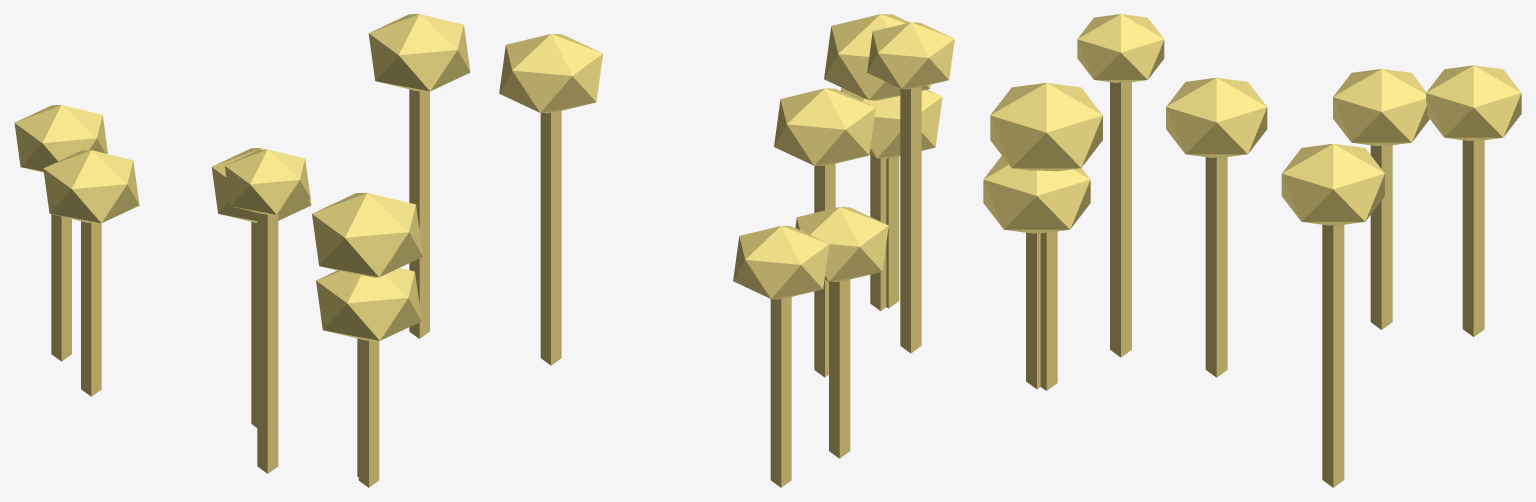
The model's file is flower_yellow.glb.
3 views of the same model, side by side, from view 1: azimuth 30°, elevation 25°; view 2: azimuth 150°, elevation 25°; view 3: azimuth 270°, elevation 25° (orthographic). The views are drawn at different scales.
Parts seen in each view (by area): view 1: flower_yellow; view 2: flower_yellow; view 3: flower_yellow.
Boxes of the visible parts, x1,y1,x2,y2 form: flower_yellow: [14, 14, 470, 487]; flower_yellow: [499, 14, 954, 487]; flower_yellow: [983, 14, 1521, 487].
Size of the model in its own units: 0.5656 by 0.4416 by 0.6355.
